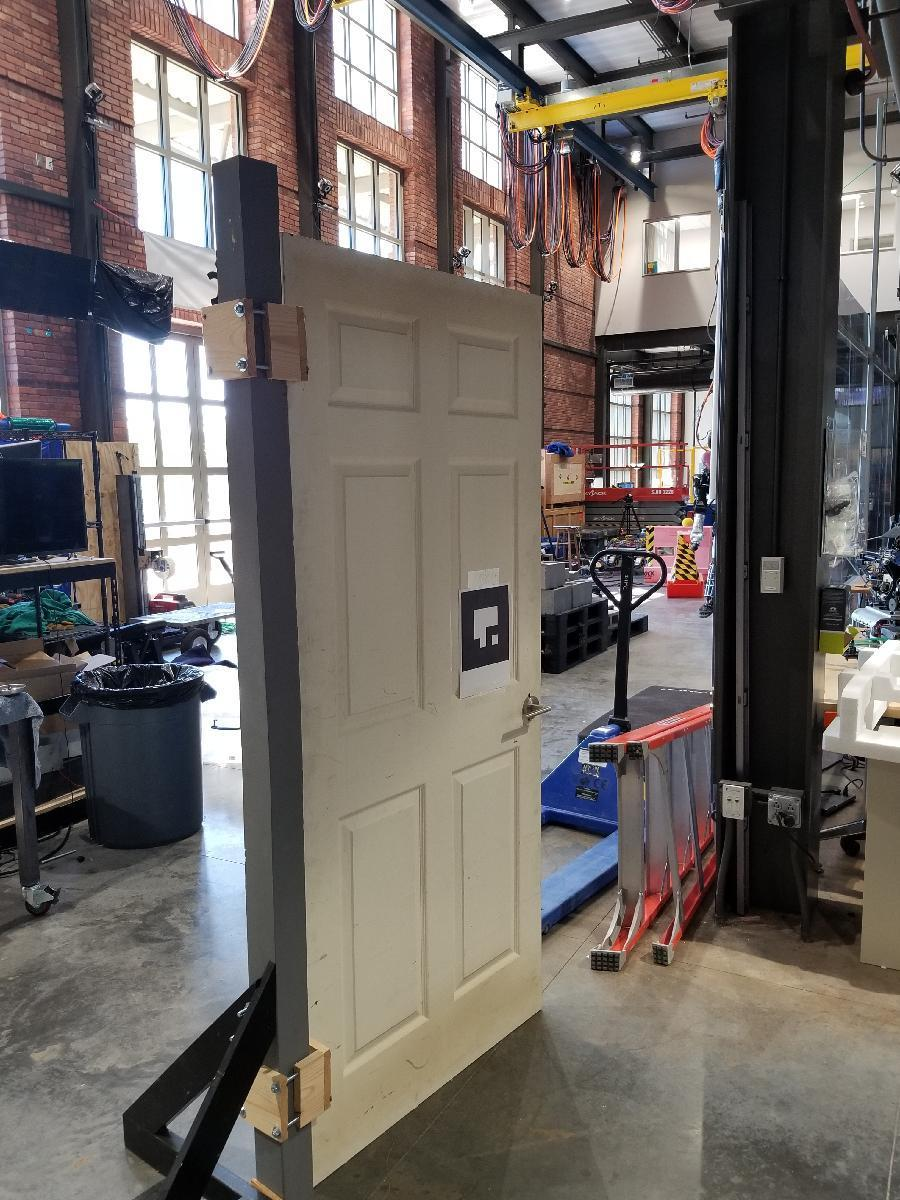door: (288, 268, 548, 1097)
handle: (520, 693, 552, 727)
